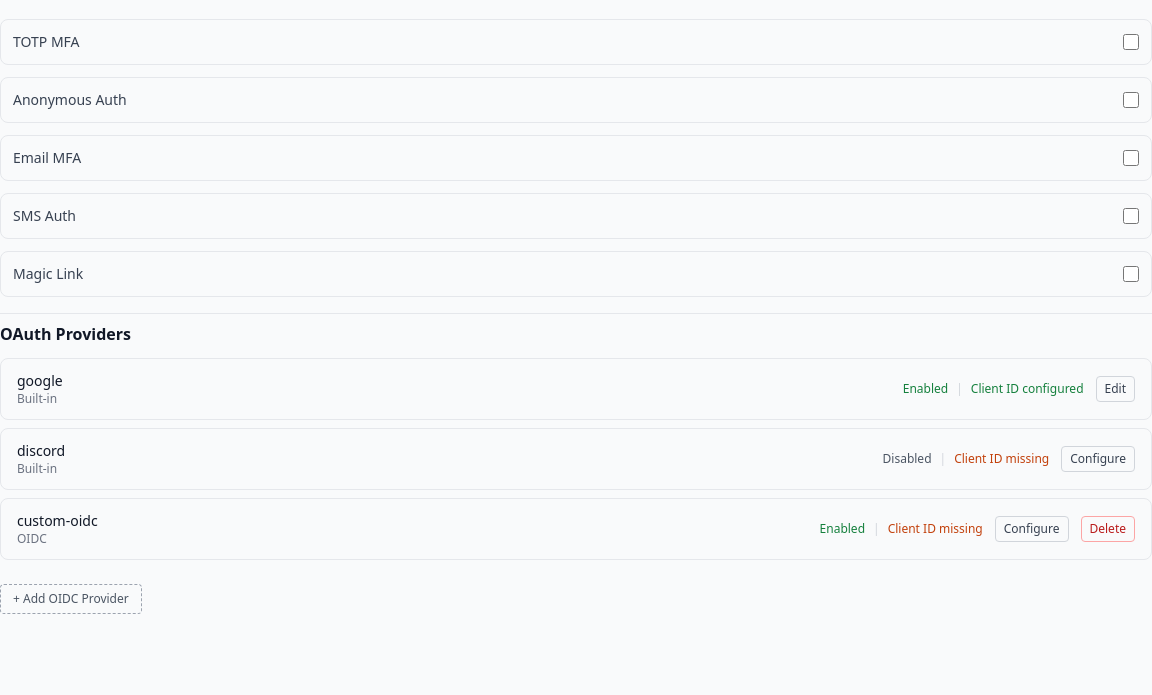
Test: AuthSettings › shows Add OIDC Provider button and opens OIDC form
Click the button with test id "add-oidc-provider" at (71,599), box [0,584,142,614]
(page scrolled)
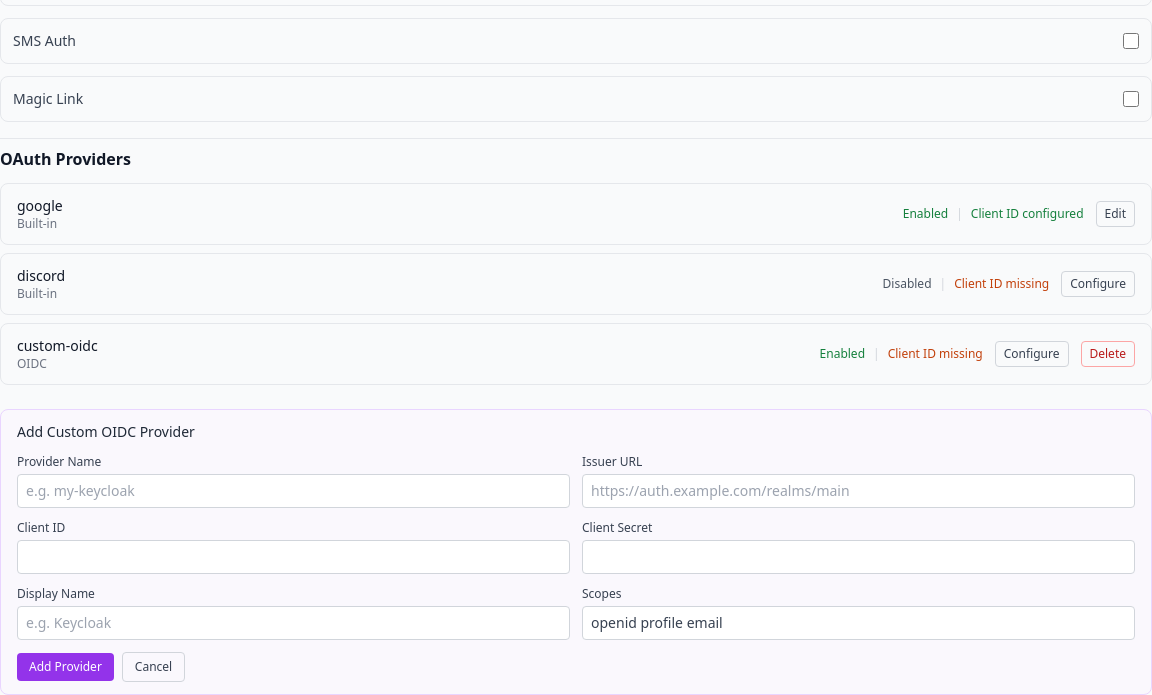
Now the field with test id "oidc-form-provider-name" is shown, box [17,474,570,508]
Now the field with test id "oidc-form-issuer-url" is shown, box [582,474,1135,508]
Now the field with test id "oidc-form-client-id" is shown, box [17,540,570,574]
